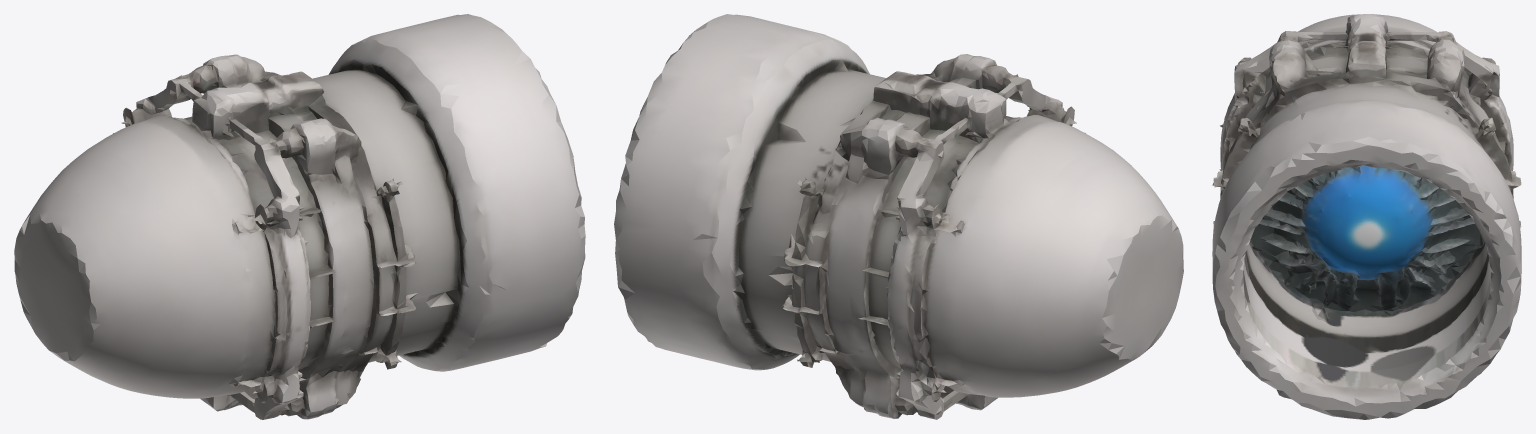
File: falcon_engine_main.glb
3 views of the same model, side by side, from view 1: azimuth 30°, elevation 25°; view 2: azimuth 150°, elevation 25°; view 3: azimuth 270°, elevation 25° (orthographic). The views are drawn at different scales.
Parts seen in each view (by area): view 1: falcon_engine_main; view 2: falcon_engine_main; view 3: falcon_engine_main.
Part boxes in pixels (box(x1,y1,x2,y2)): falcon_engine_main: box(14, 14, 585, 419); falcon_engine_main: box(614, 14, 1183, 419); falcon_engine_main: box(1212, 14, 1521, 419).
Size of the model in its own units: 1.89 by 1.25 by 1.25.
1 material, 1 textured.
